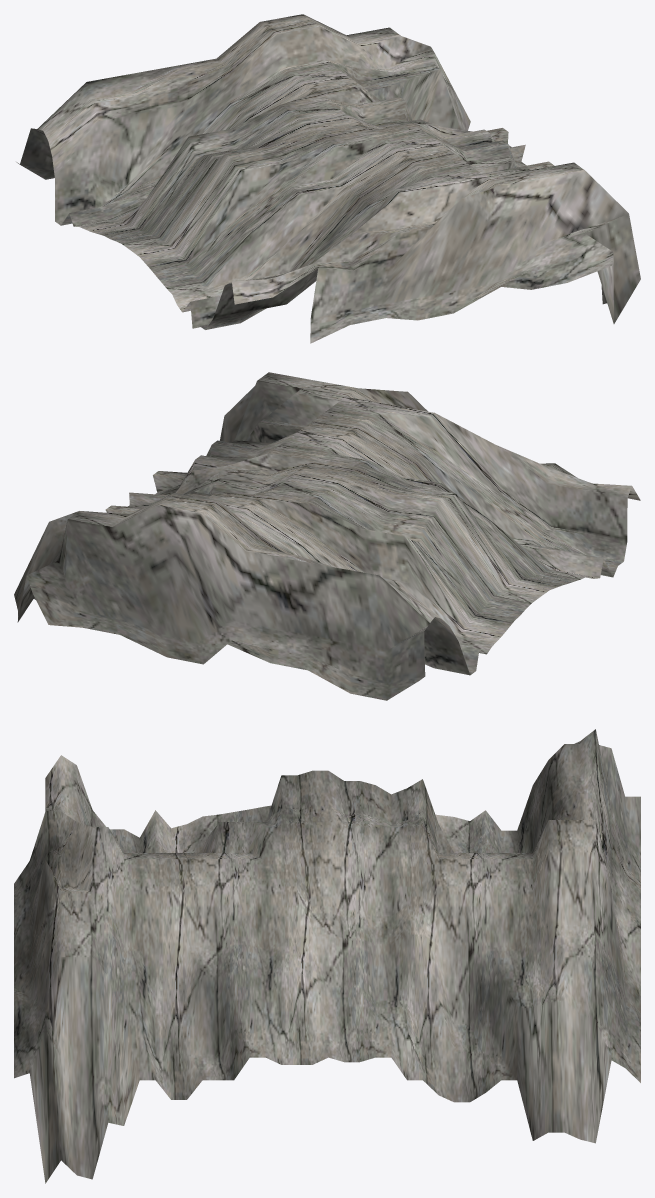
Rendered from DWARF_PALACE_OBJECT01.fbx.
3 renders of one model, top to bottom at view 1: azimuth 30°, elevation 25°; view 2: azimuth 150°, elevation 25°; view 3: azimuth 270°, elevation 25°, orthographic. The views are drawn at different scales.
Parts seen in each view (by area): view 1: DWARF_PALACE_OBJECT01; view 2: DWARF_PALACE_OBJECT01; view 3: DWARF_PALACE_OBJECT01.
Part boxes in pixels (x1=…): DWARF_PALACE_OBJECT01: x1=16, y1=14, x2=640, y2=343; DWARF_PALACE_OBJECT01: x1=14, y1=372, x2=640, y2=700; DWARF_PALACE_OBJECT01: x1=14, y1=729, x2=640, y2=1183.
Bounding box in the file's own units: 558680 × 239800 × 519419.
1 material, 1 textured.
